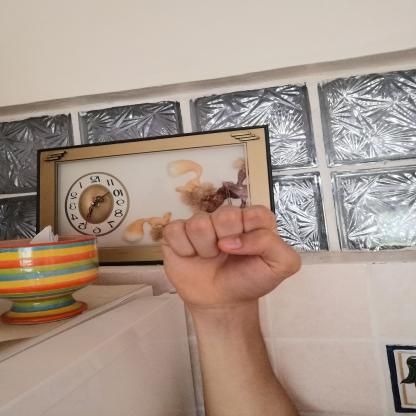SAD: (144, 193, 315, 319)
